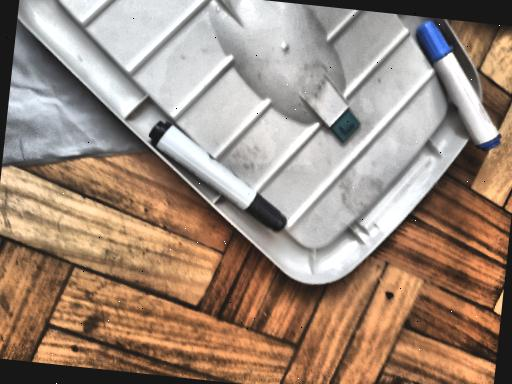marcador azul: (416, 19, 500, 150)
marcador negro: (148, 121, 286, 231)
